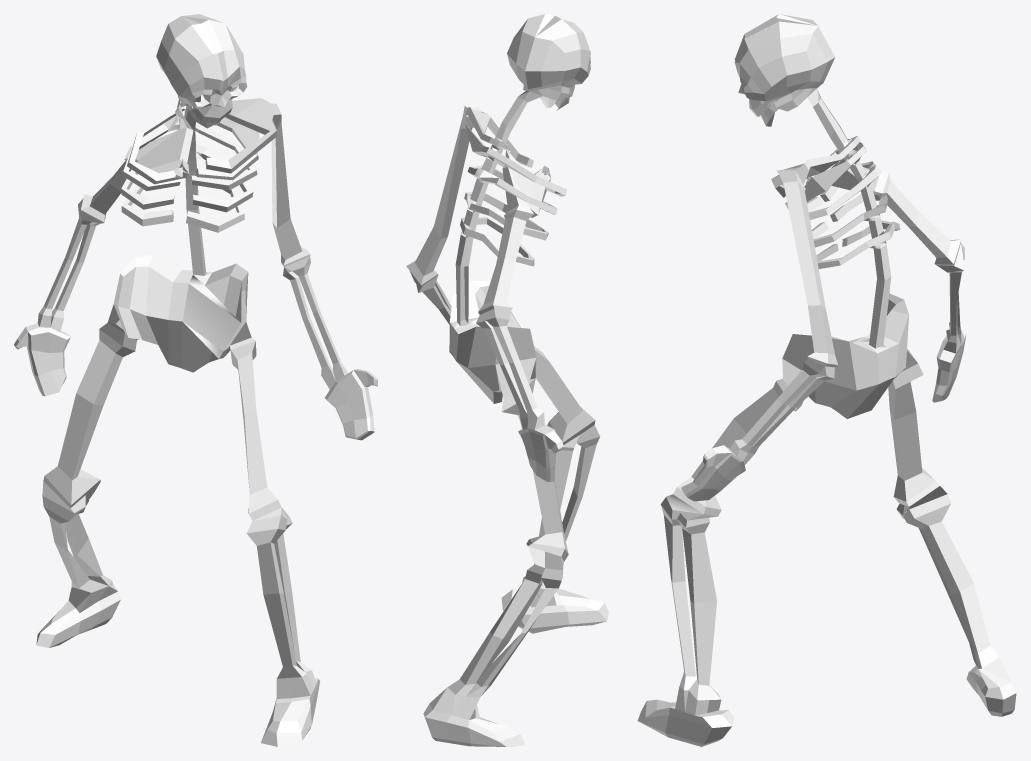
Rendered from SkeletonIdle(3).obj.
The picture shows the model from 3 angles, left to right: view 1: azimuth 30°, elevation 25°; view 2: azimuth 150°, elevation 25°; view 3: azimuth 270°, elevation 25°; orthographic projection. The views are drawn at different scales.
Parts seen in each view (by area): view 1: Object002; view 2: Object002; view 3: Object002.
Part boxes in pixels (left/top/right/bottom): Object002: left=14, top=14, right=377, bottom=746; Object002: left=406, top=14, right=608, bottom=746; Object002: left=637, top=14, right=1016, bottom=746.
Bounding box in the file's own units: 413 × 1122 × 556.
